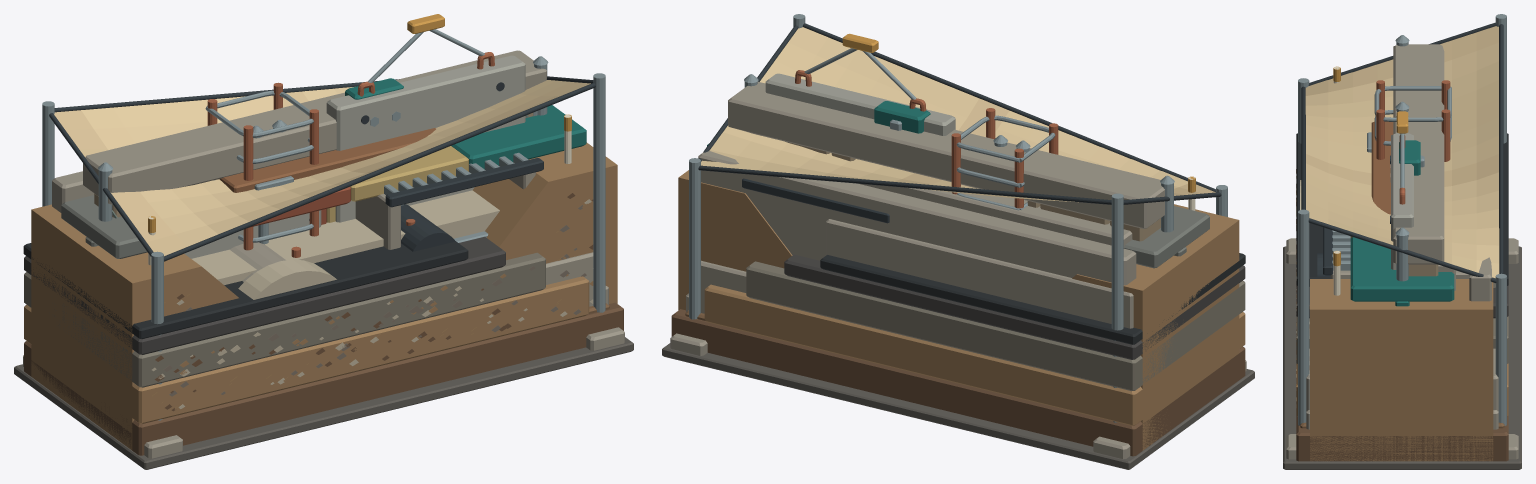
The model's file is exhibits.glb.
3 renders of one model, left to right at view 1: azimuth 30°, elevation 25°; view 2: azimuth 150°, elevation 25°; view 3: azimuth 270°, elevation 25°, orthographic. The views are drawn at different scales.
Visible parts, largest first — view 1: Exhibit06, Exhibit09, Exhibit05, Exhibit02, Exhibit03, Exhibit11, Exhibit07, Exhibit16, Exhibit01, Exhibit15, Exhibit14, Exhibit08 (+1 smaller); view 2: Exhibit06, Exhibit09, Exhibit02, Exhibit05, Exhibit15, Exhibit12, Exhibit03, Exhibit04, Exhibit01, Exhibit11, Exhibit07, Exhibit13 (+2 smaller); view 3: Exhibit09, Exhibit05, Exhibit02, Exhibit06, Exhibit11, Exhibit03, Exhibit01, Exhibit07, Exhibit15, Exhibit08, Exhibit13, Exhibit14.
Part boxes in pixels (<box>): Exhibit06: <box>23,236,623,455</box>; Exhibit09: <box>14,73,633,469</box>; Exhibit05: <box>31,114,617,450</box>; Exhibit02: <box>83,50,546,244</box>; Exhibit03: <box>184,14,525,258</box>; Exhibit11: <box>61,105,586,258</box>; Exhibit07: <box>229,152,543,299</box>; Exhibit16: <box>192,190,499,285</box>; Exhibit01: <box>205,82,318,250</box>; Exhibit15: <box>52,171,455,251</box>; Exhibit14: <box>291,219,593,293</box>; Exhibit08: <box>98,56,548,221</box>; Exhibit06: <box>671,253,1245,456</box>; Exhibit09: <box>662,14,1254,469</box>; Exhibit02: <box>728,81,1164,241</box>; Exhibit05: <box>678,170,1239,450</box>; Exhibit15: <box>698,151,1136,285</box>; Exhibit12: <box>686,219,1133,328</box>; Exhibit03: <box>765,33,955,135</box>; Exhibit04: <box>859,183,1132,247</box>; Exhibit01: <box>951,108,1058,210</box>; Exhibit11: <box>707,144,1209,268</box>; Exhibit07: <box>742,178,889,223</box>; Exhibit13: <box>874,101,930,133</box>; Exhibit09: <box>1283,14,1521,469</box>; Exhibit05: <box>1309,66,1493,461</box>; Exhibit02: <box>1367,44,1444,276</box>; Exhibit06: <box>1296,133,1508,461</box>; Exhibit11: <box>1350,236,1454,306</box>; Exhibit03: <box>1390,111,1413,269</box>; Exhibit01: <box>1374,80,1451,161</box>; Exhibit07: <box>1300,180,1469,278</box>; Exhibit15: <box>1317,253,1491,301</box>; Exhibit08: <box>1395,35,1409,281</box>; Exhibit13: <box>1390,140,1424,182</box>; Exhibit14: <box>1306,348,1498,410</box>.
Bounding box in the file's own units: 5.65 × 3.53 × 2.63.
